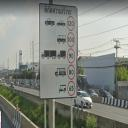speed_limit_100: (67, 32, 75, 48)
speed_limit_120: (66, 14, 74, 31)
speed_limit_80: (67, 65, 75, 80)
speed_limit_90: (67, 48, 75, 64)
